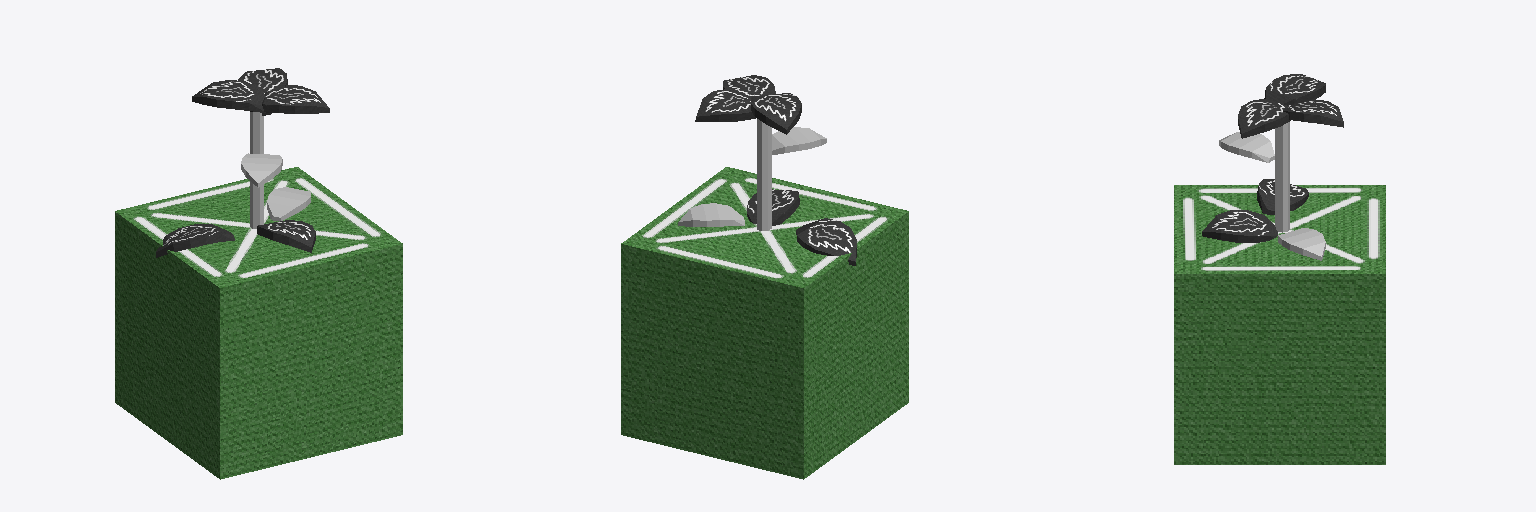
3 renders of one model, left to right at view 1: azimuth 30°, elevation 25°; view 2: azimuth 150°, elevation 25°; view 3: azimuth 270°, elevation 25°, orthographic.
Parts seen in each view (by area): view 1: Box006.005; view 2: Box006.005; view 3: Box006.005.
Boxes of the visible parts, <box> form: Box006.005: <box>115,68,402,479</box>; Box006.005: <box>621,75,908,479</box>; Box006.005: <box>1174,74,1385,464</box>.
Size of the model in its own units: 0.2617 by 0.4341 by 0.254.
Materials: 7 (2 with a texture image).